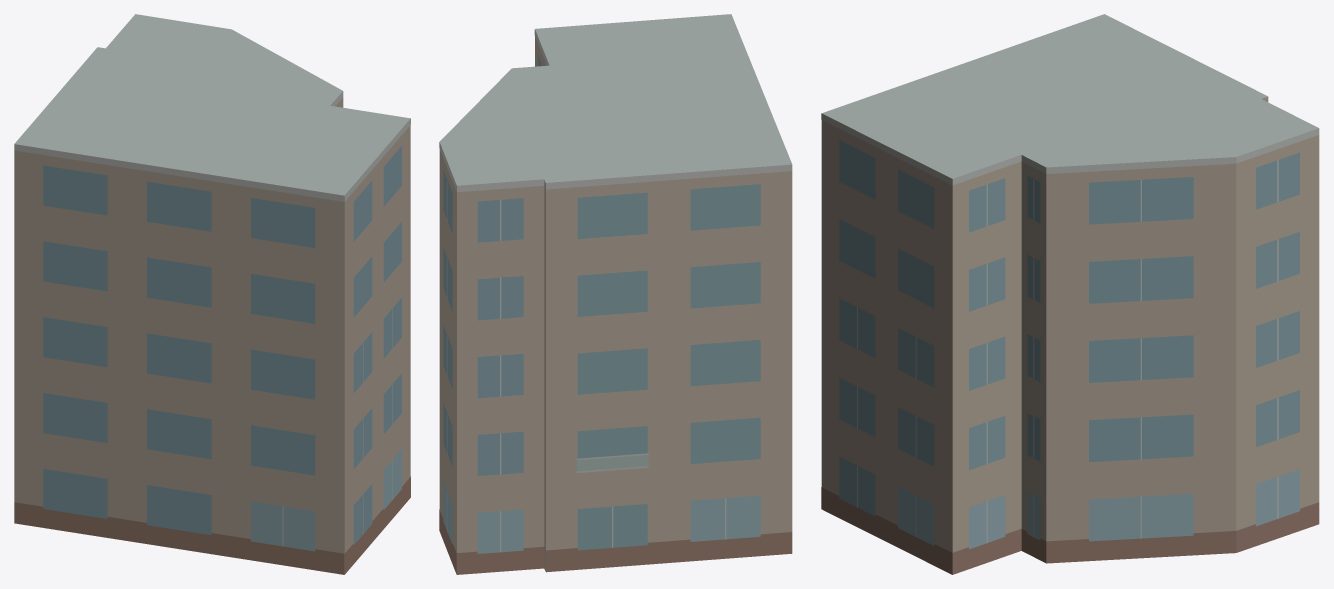
The model's file is survey-upis-32774489.glb.
3 views of the same model, side by side, from view 1: azimuth 30°, elevation 25°; view 2: azimuth 150°, elevation 25°; view 3: azimuth 270°, elevation 25° (orthographic). The views are drawn at different scales.
Parts seen in each view (by area): view 1: survey-upis-32774489.tmp; view 2: survey-upis-32774489.tmp; view 3: survey-upis-32774489.tmp.
Part boxes in pixels (bbox=[...]): survey-upis-32774489.tmp: bbox=[14, 14, 410, 574]; survey-upis-32774489.tmp: bbox=[439, 14, 792, 574]; survey-upis-32774489.tmp: bbox=[821, 14, 1319, 574].
Size of the model in its own units: 13.05 by 14.6 by 16.64.
